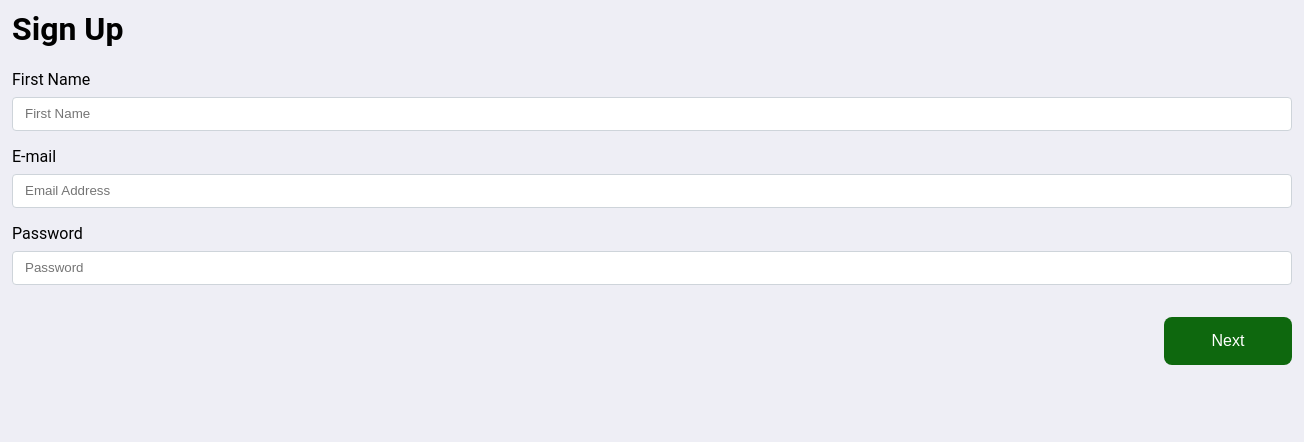
Test: SignUpPage › should prevent submit when required fields are not informed
The width and height of the screenshot is (1304, 442).
Click the button "Next": (1228, 341) [1164, 317, 1292, 365]
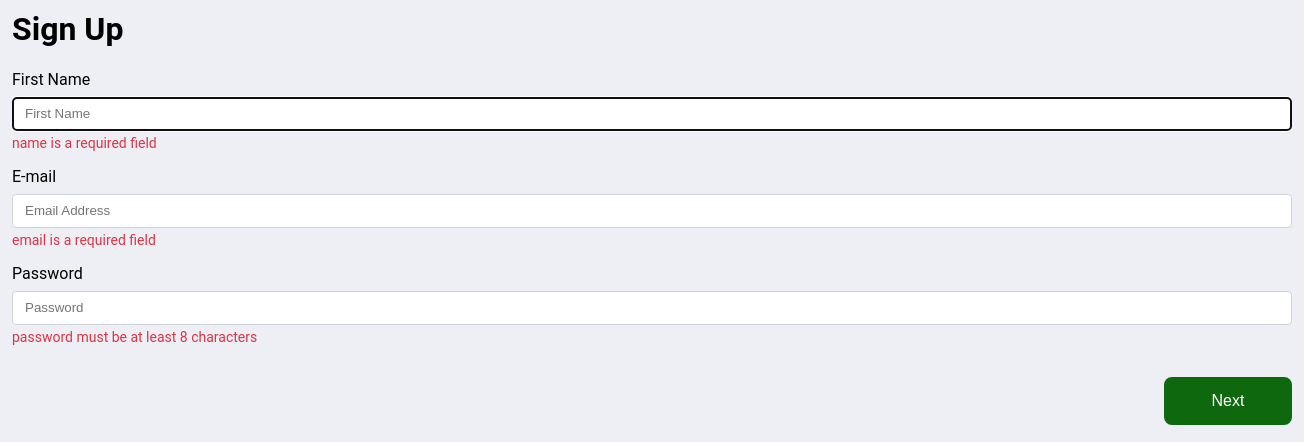
expect the text "name is a required field" is shown: met, box [12, 135, 157, 151]
expect the text "email is a required field" is shown: met, box [12, 232, 156, 248]
expect the text "password must be at least 8 characters" is shown: met, box [12, 329, 257, 345]
